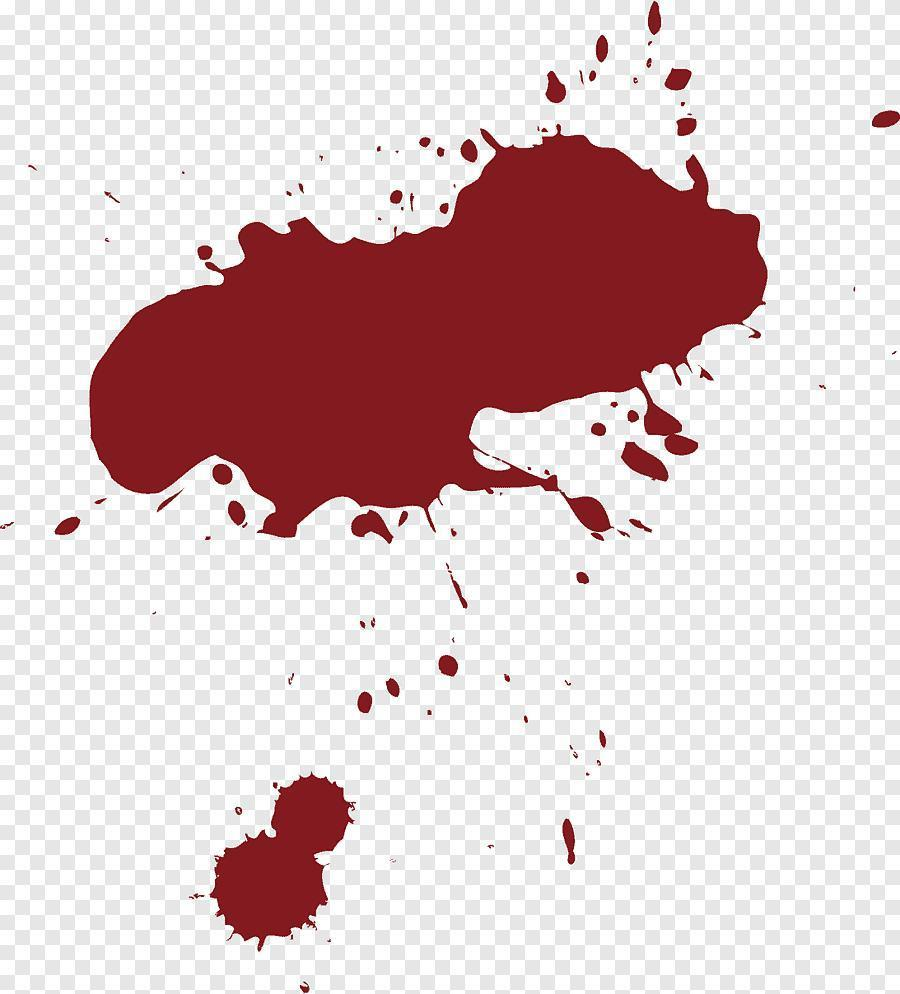Fire: (89, 123, 768, 541), (209, 770, 356, 952)
